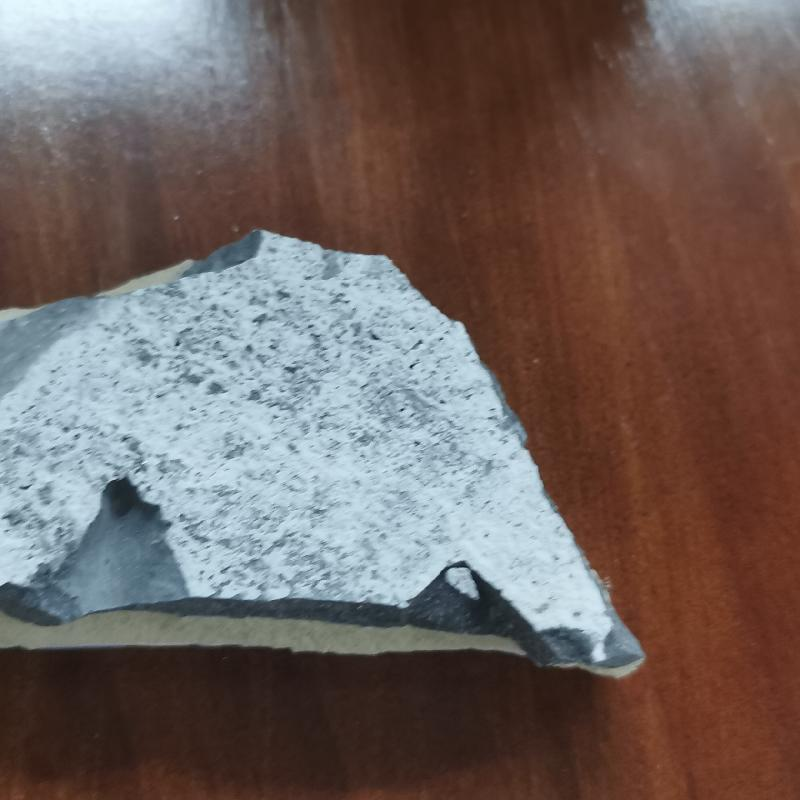tile: (0, 226, 652, 683)
